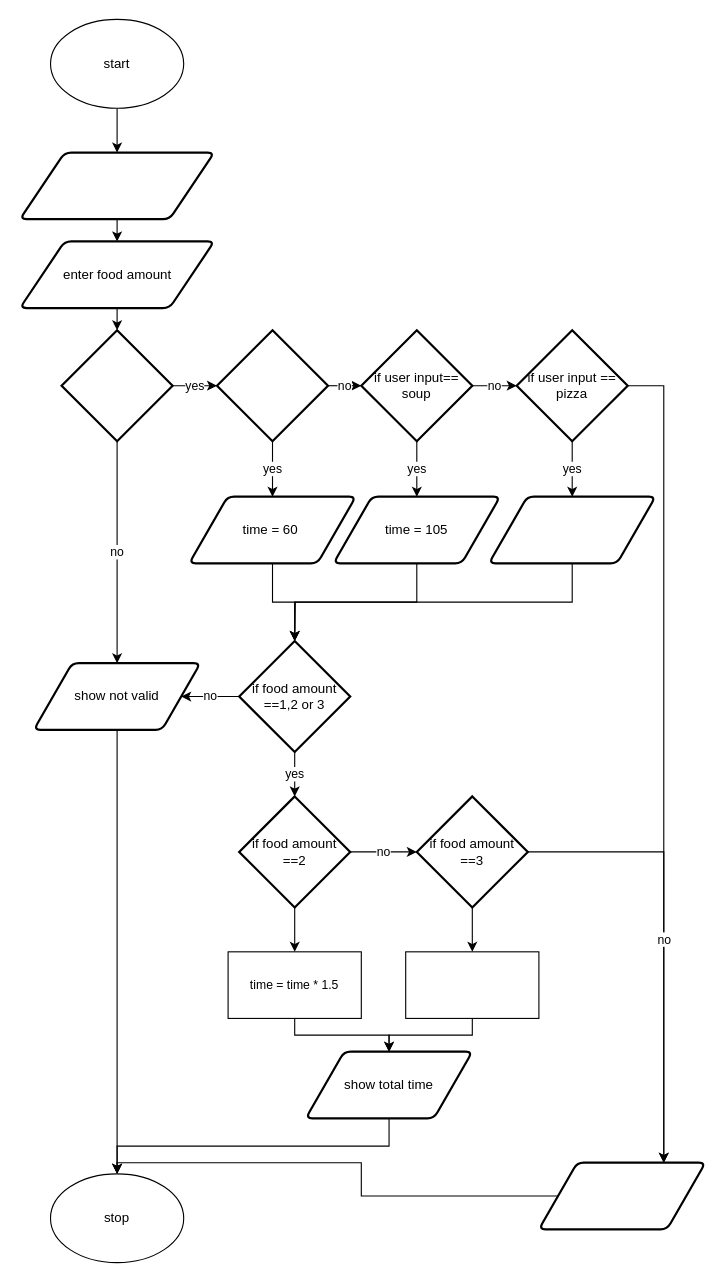
This 726x1282 diagram has some shape labels left out. Each missing label, with the centre of its shape:
enter soup sub or pizza: the point at 116,185
if unserinput == sub: the point at 272,385
if user input= sub soup or pizza: the point at 116,385
show oops something went wrong: the point at 621,1195
time = 45: the point at 571,529
time = time * 2: the point at 472,984
